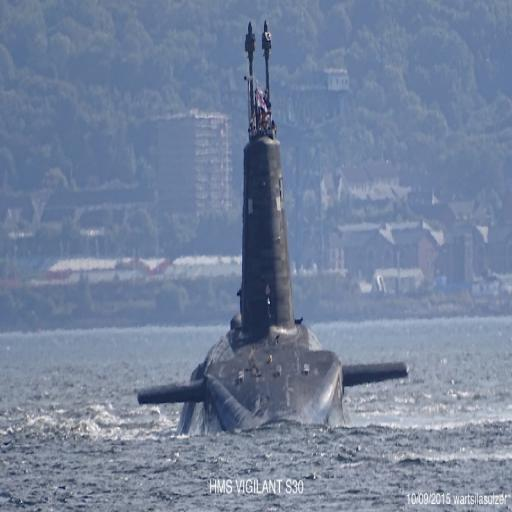submarine: (137, 21, 411, 434)
